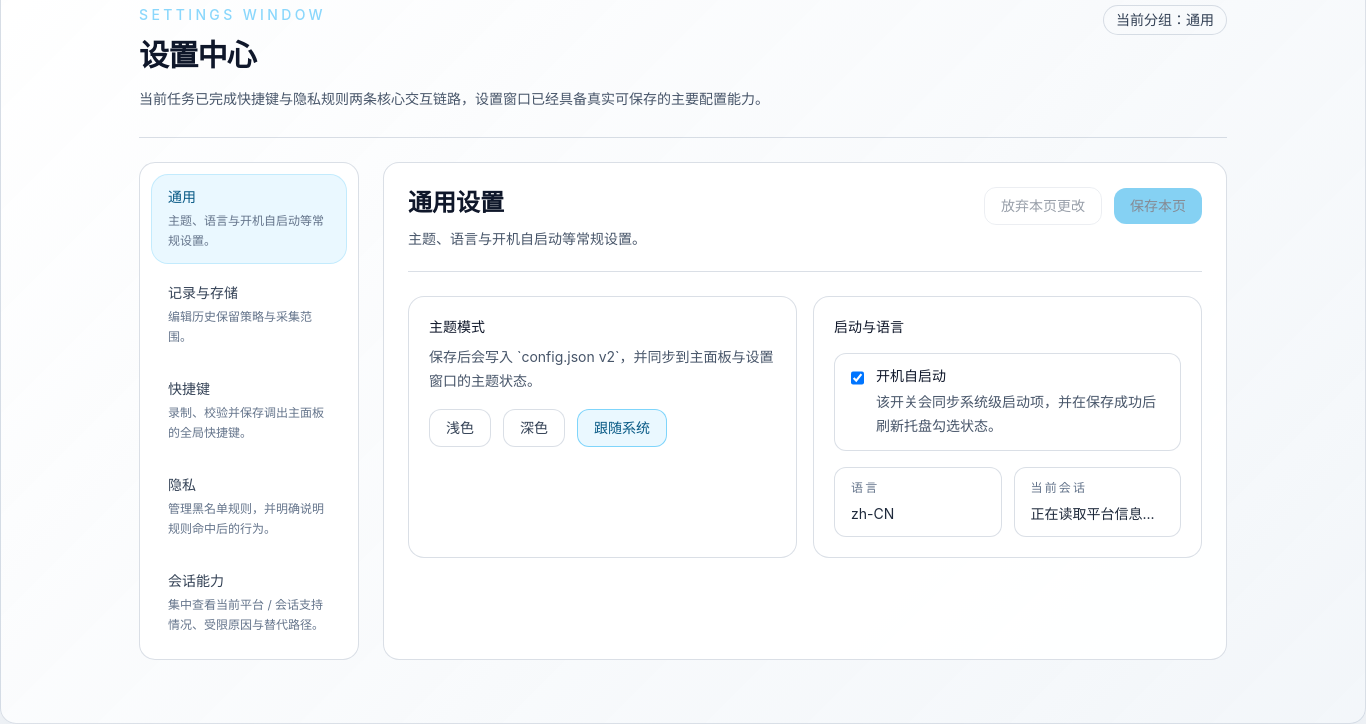
Test: components/SettingsWindowPlaceholder › 活动应用识别受限时会在隐私页提示黑名单能力降级
Expected: the heading "设置中心" is shown, [139,37,256,73]
Click the tab "隐私 管理黑名单规则，并明确说明规则命中后的行为。": (249, 507) [152,463,346,551]
(page scrolled)
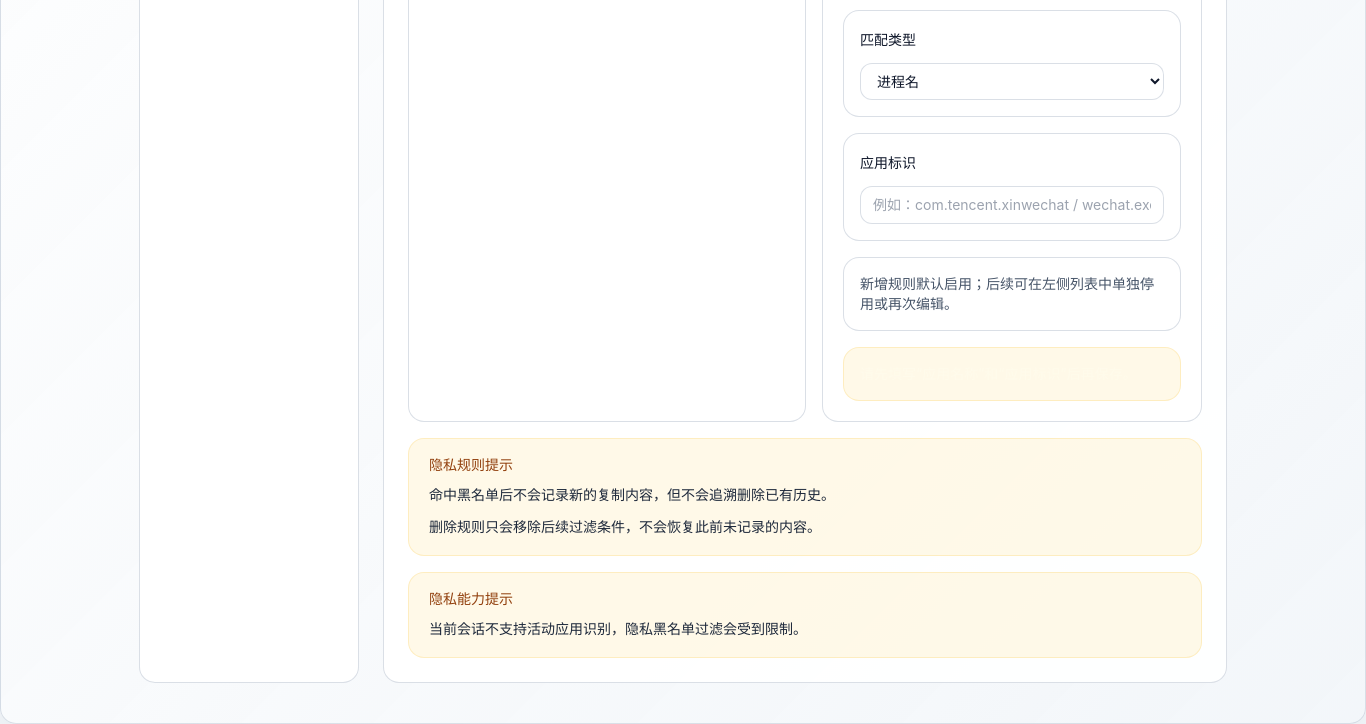
Expected: the list item "当前会话不支持活动应用识别，隐私黑名单过滤会受到限制。" is shown, [429,620,807,637]
